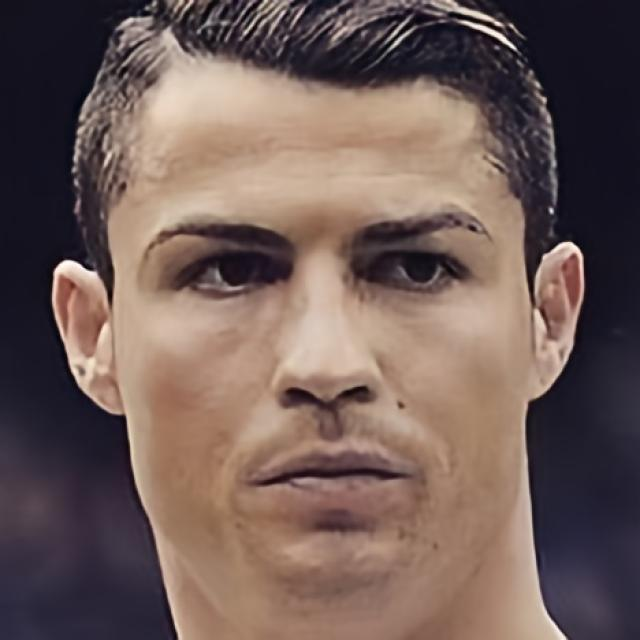anger: (118, 57, 532, 632)
